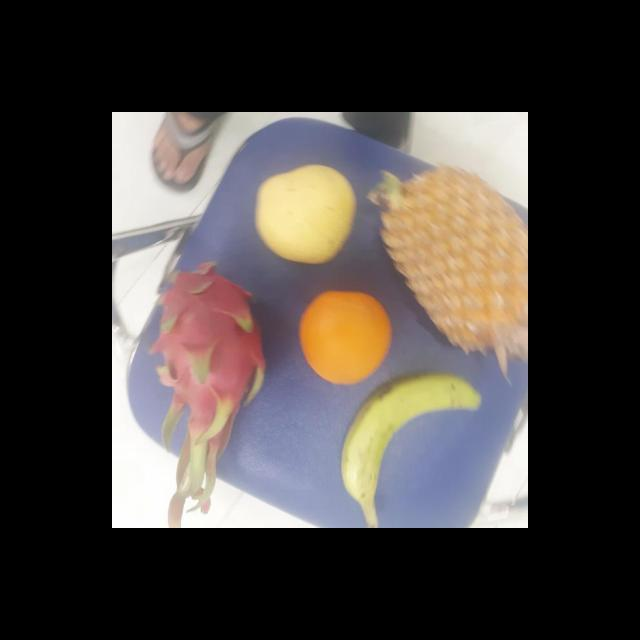banana: (341, 370, 482, 519)
pitaya: (145, 266, 269, 450)
